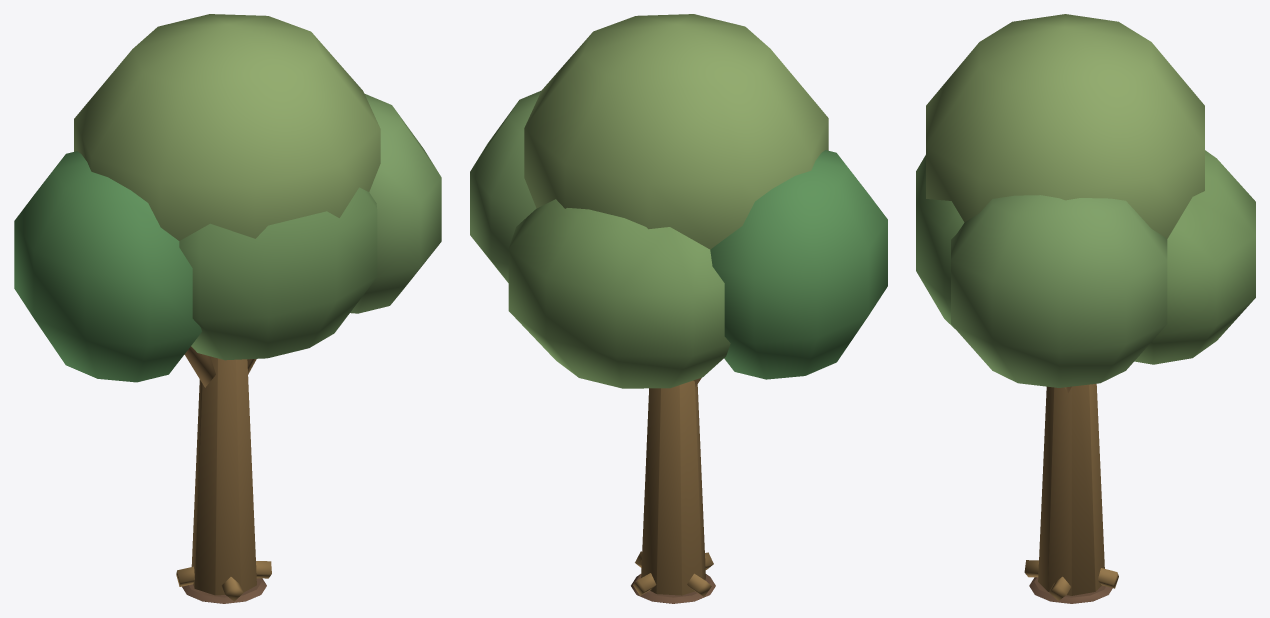
The model's file is tree_stage3_low.glb.
3 views of the same model, side by side, from view 1: azimuth 30°, elevation 25°; view 2: azimuth 150°, elevation 25°; view 3: azimuth 270°, elevation 25° (orthographic).
Bounding box in the file's own units: 3.52 × 4.9 × 2.7.
